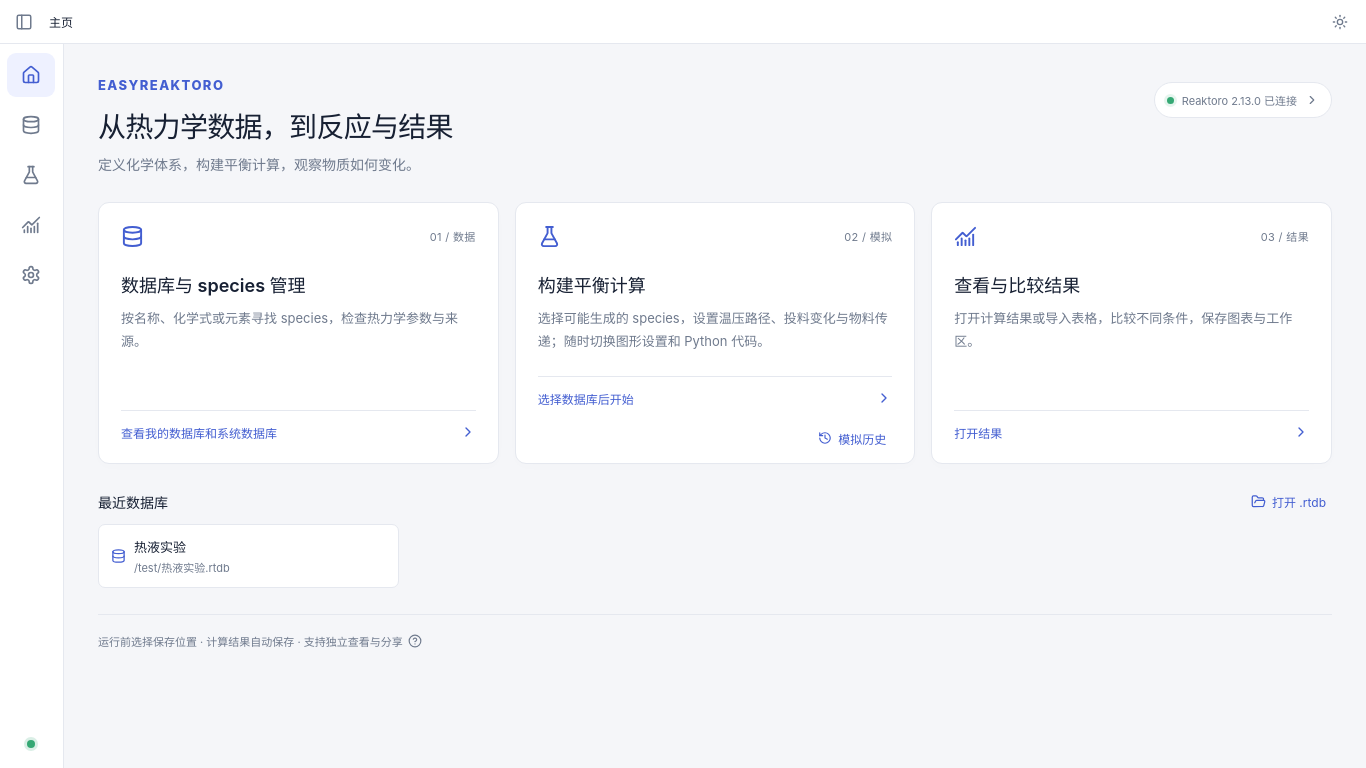
Test: persists a settings language change without replacing the open database or selected species
The image size is (1366, 768).
Click the button "热液实验 /test/热液实验.rtdb" at (160, 547), box [98,524,399,588]
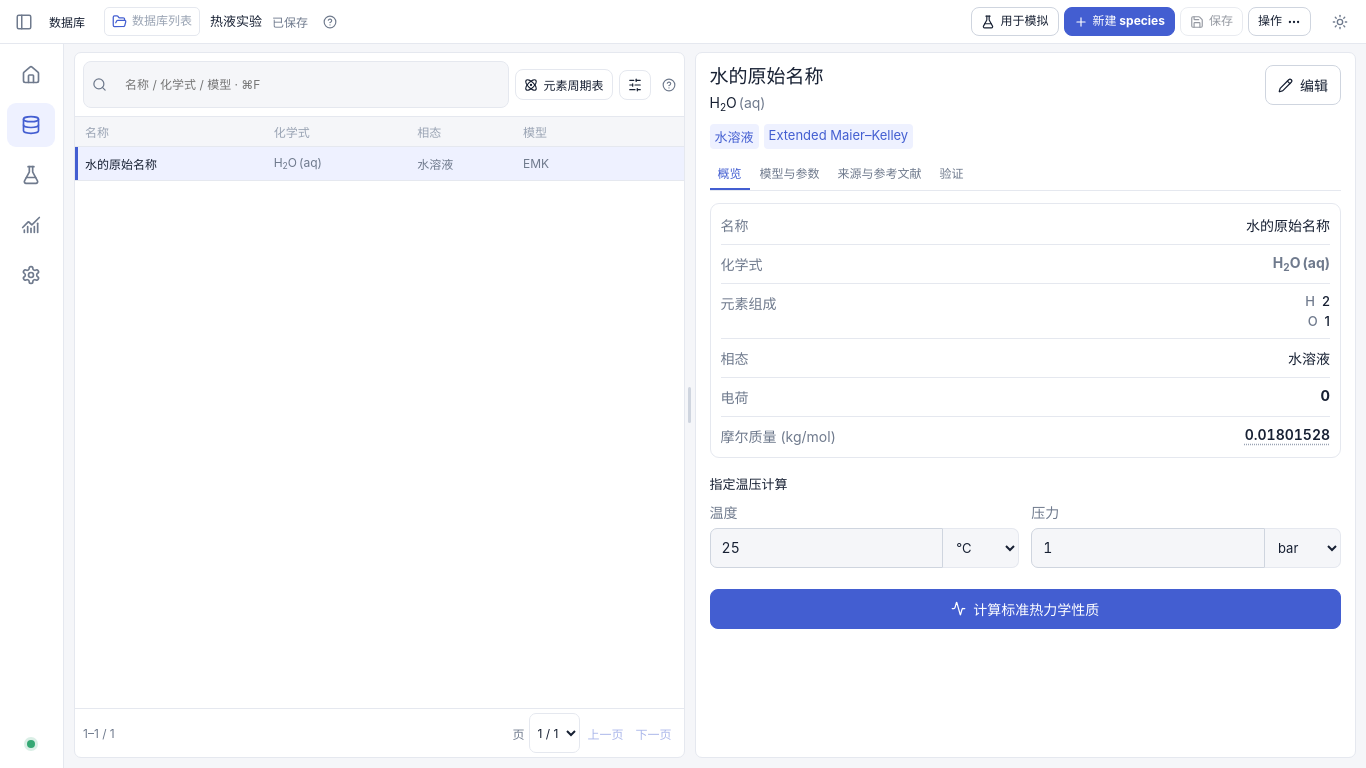
Check: the text "摩尔质量 (kg/mol)" is shown, box [720,426,836,446]
Click the button named "设置" at (31, 275), box [7,253,55,297]
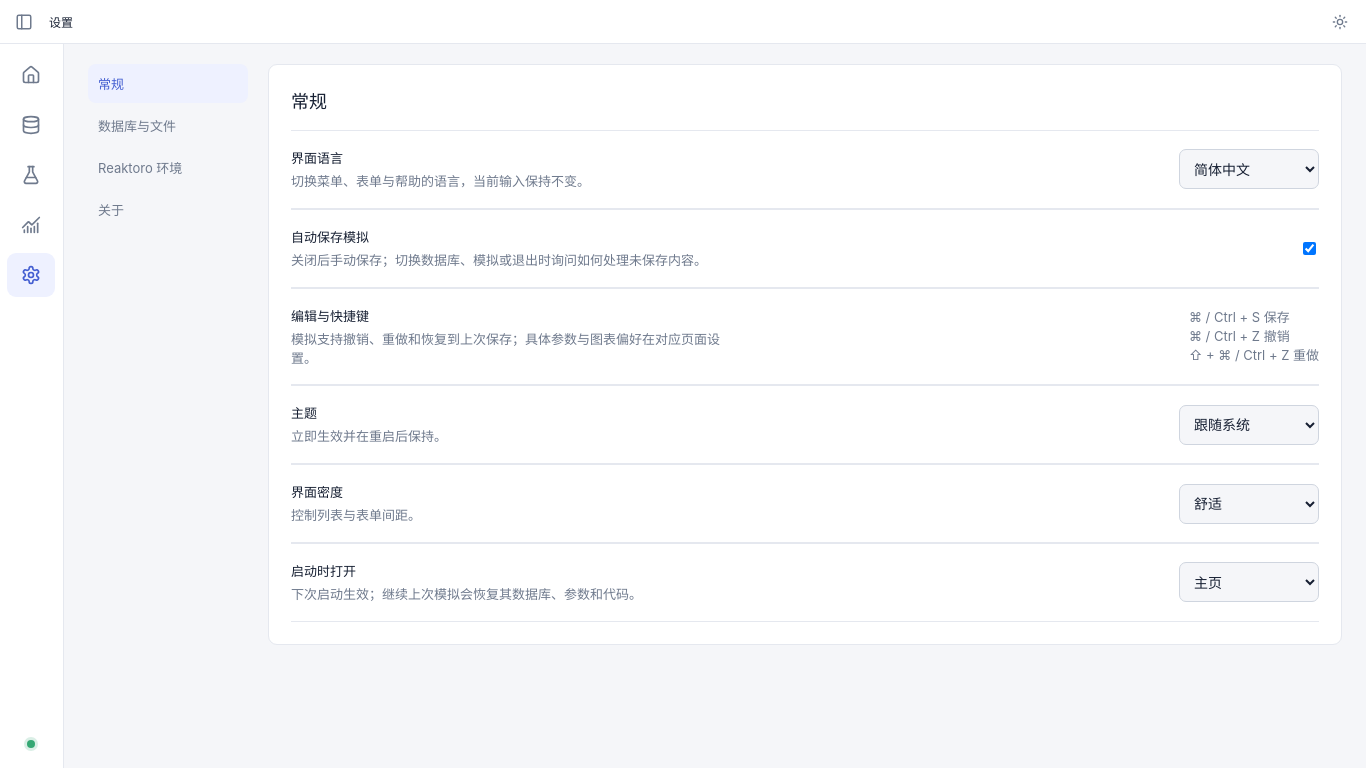
Select "English" in the dropdown named "界面语言" at (1249, 169), box [1179,149,1319,189]
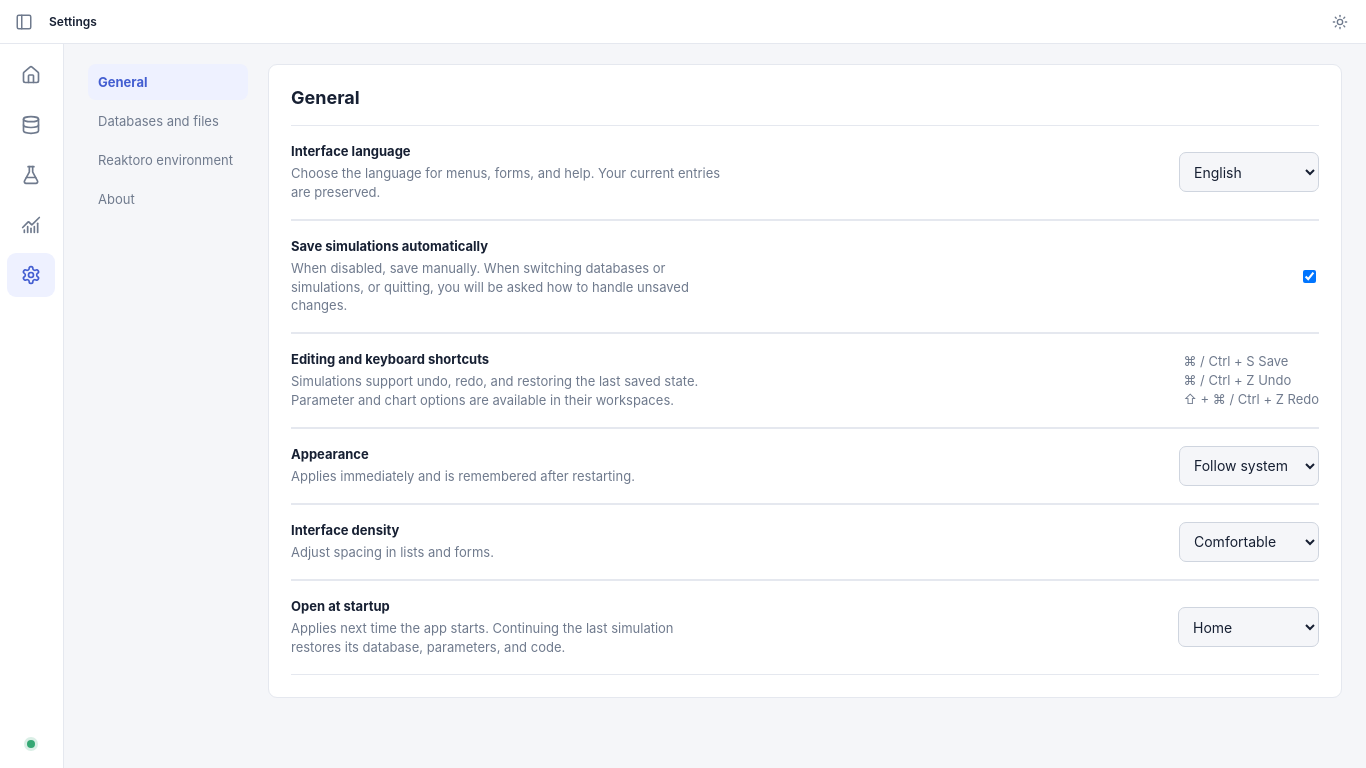
Click the button named "Database" at (31, 125), box [7,103,55,147]
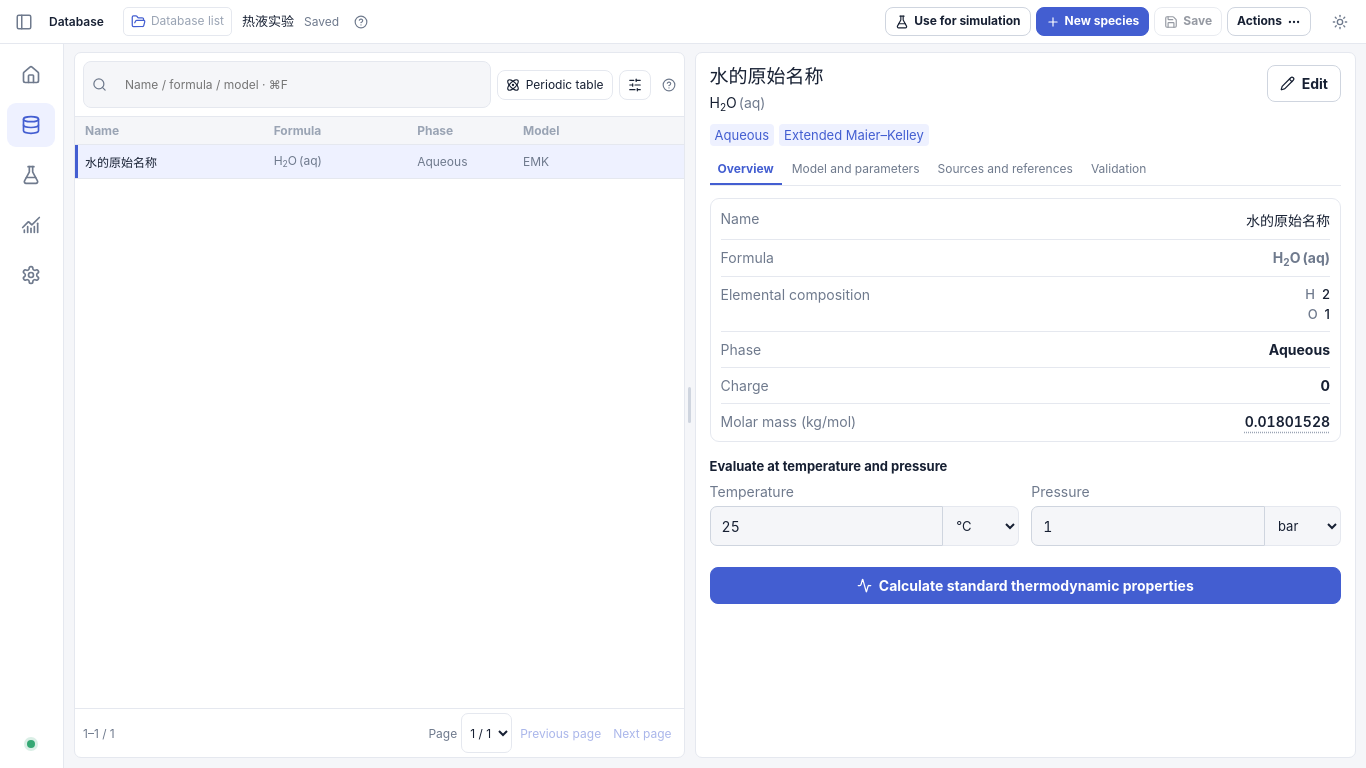
Check: the text "Molar mass (kg/mol)" is shown, box [720,413,856,430]
Check: the heading "水的原始名称" is shown, box [710,65,824,88]
Click the button "Sources and references" at (1005, 169), box [930,154,1081,184]
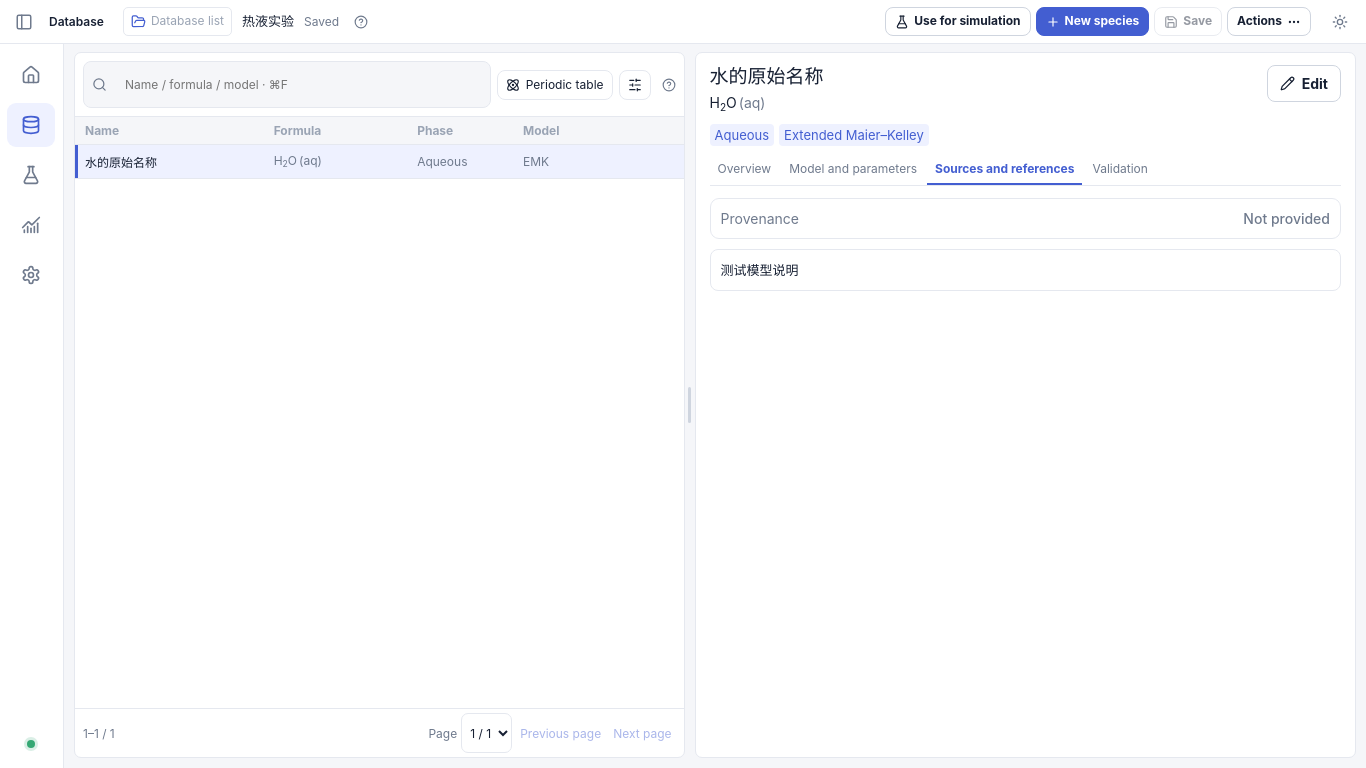
Check: the text "测试模型说明" is shown, box [710,248,1341,291]
